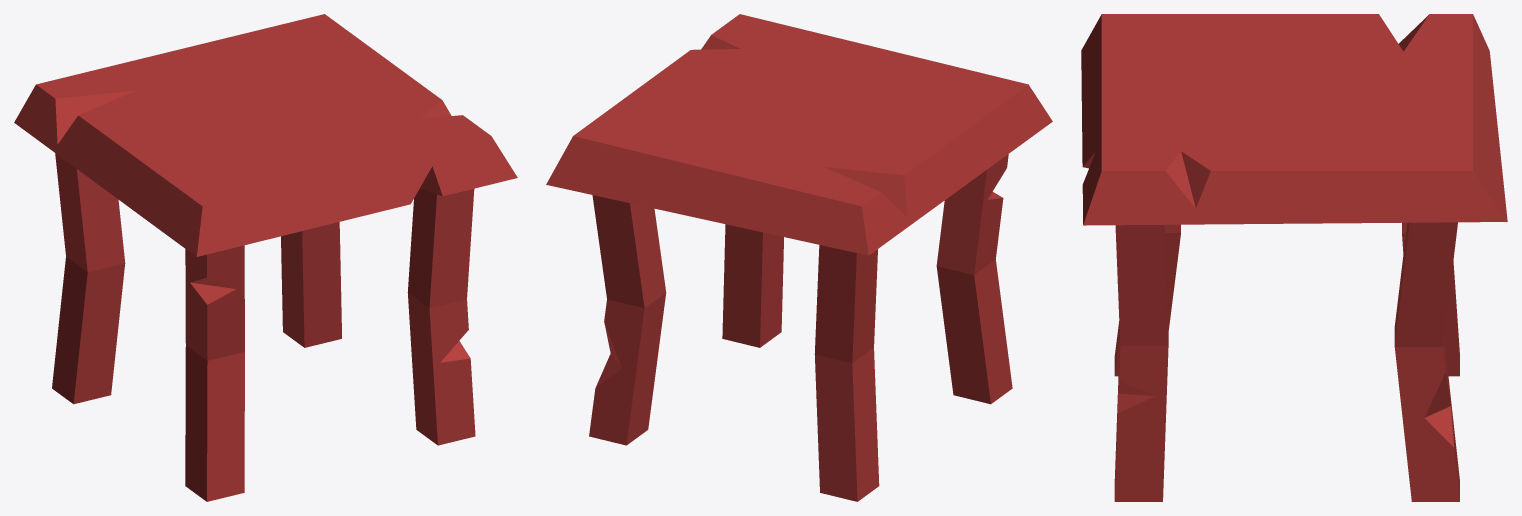
Rendered from Chair_1_Red.fbx.
3 views of the same model, side by side, from view 1: azimuth 30°, elevation 25°; view 2: azimuth 150°, elevation 25°; view 3: azimuth 270°, elevation 25° (orthographic). The views are drawn at different scales.
Visible parts, largest first — view 1: Chair_1_Red; view 2: Chair_1_Red; view 3: Chair_1_Red.
Part boxes in pixels (left/top/right/bottom): Chair_1_Red: left=14, top=14, right=517, bottom=501; Chair_1_Red: left=546, top=14, right=1052, bottom=501; Chair_1_Red: left=1081, top=14, right=1507, bottom=501.
Bounding box in the file's own units: 55.76 × 50 × 57.42.
